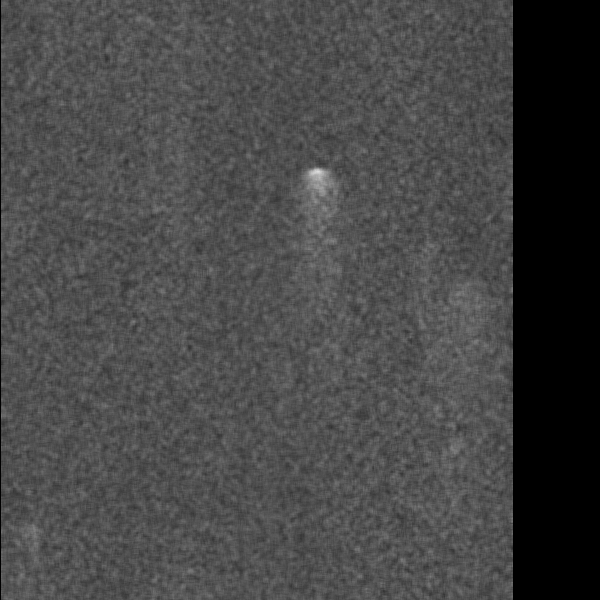spark: (300, 160, 333, 221)
